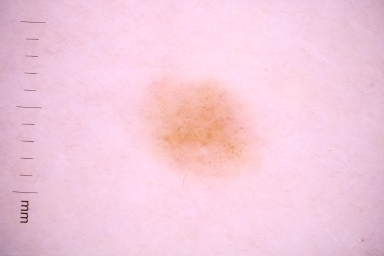melanoma: (146, 80, 251, 170)
